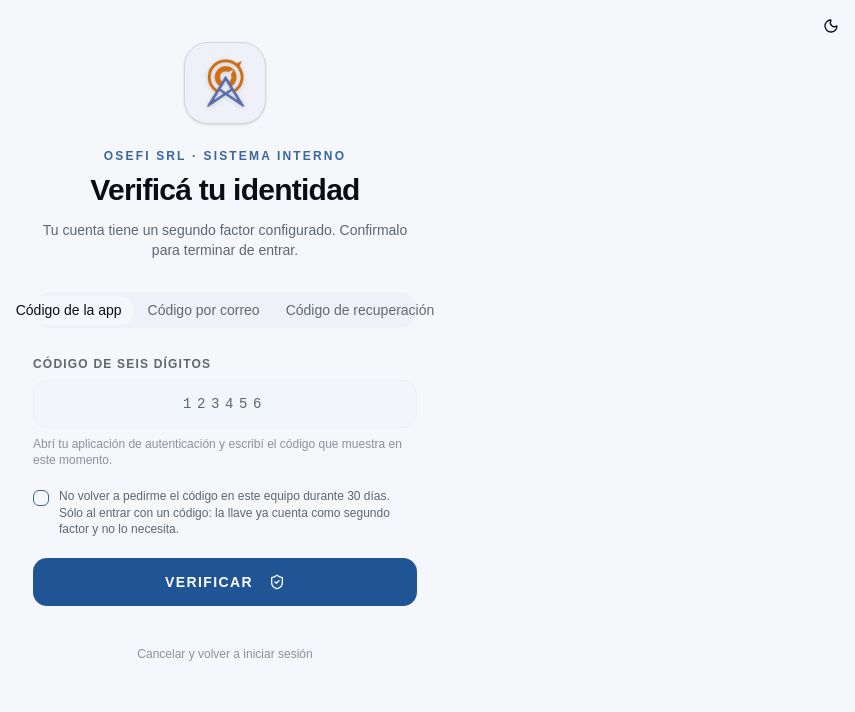
Test: the email tab (plan 4E) › shows where the code would go — the address /auth/me already masked — and a field for it
Click the tab "Código por correo": click(204, 310) left=135, top=295, right=273, bottom=326
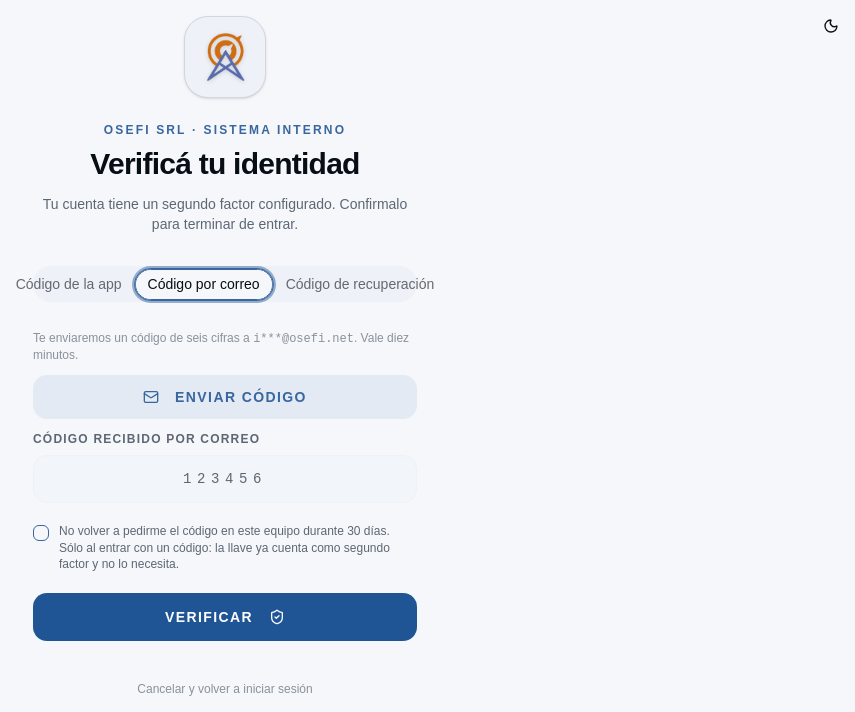
Expected: the text "i***@osefi.net" is shown, left=253, top=332, right=354, bottom=346
Expected: the field labelled "Código recibido por correo" is shown, left=33, top=455, right=417, bottom=503
